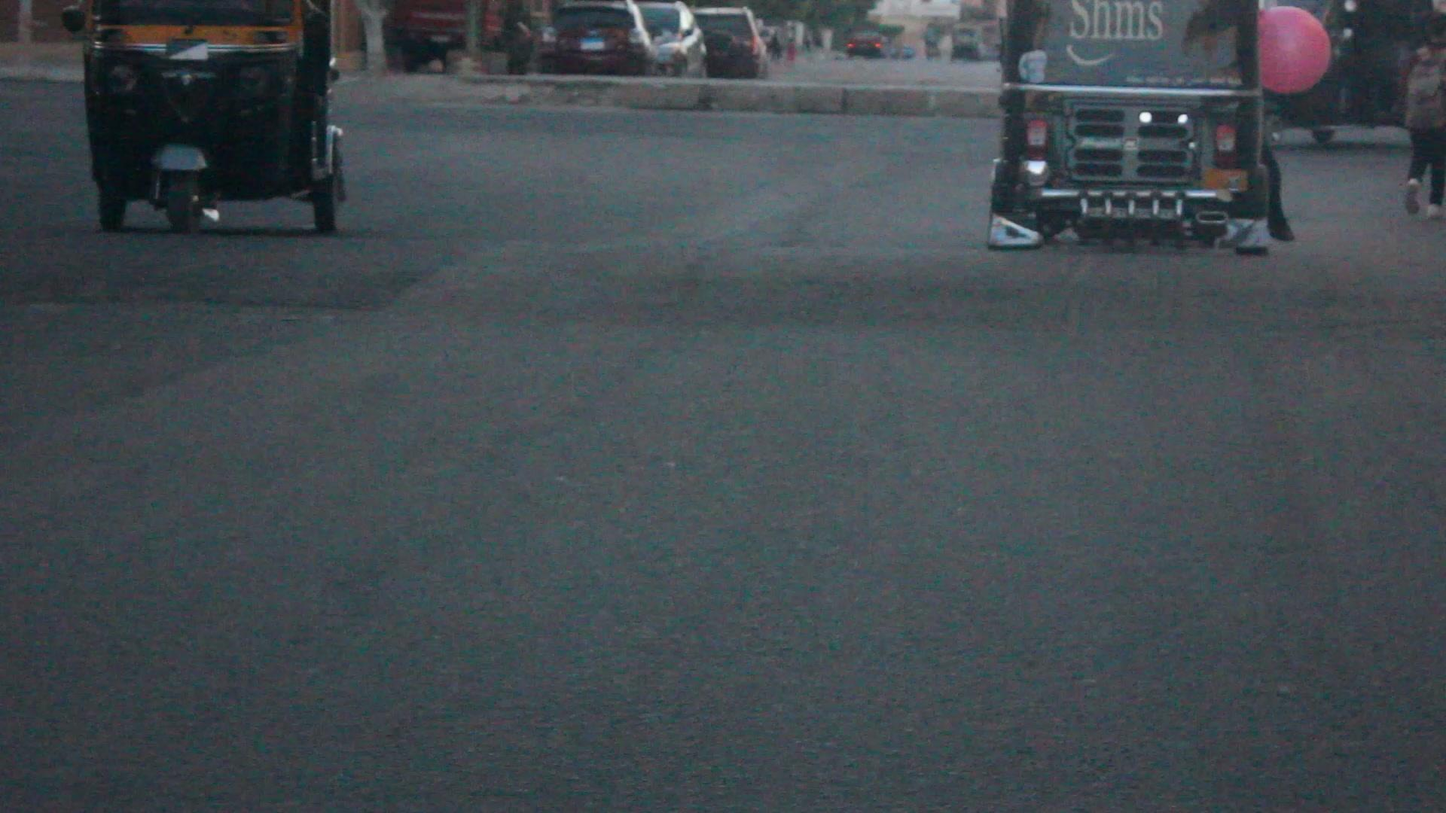Bump: (4, 215, 1446, 358)
